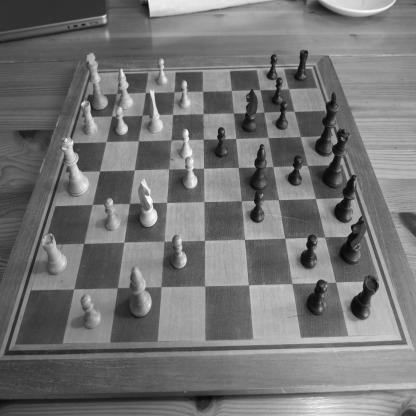black-bishop: (334, 174, 357, 224), (249, 143, 268, 191)
black-king: (314, 91, 340, 157)
black-knight: (340, 216, 368, 266), (242, 87, 258, 133)
black-pawn: (306, 278, 328, 316), (300, 234, 318, 269), (288, 154, 303, 186), (250, 190, 264, 224), (215, 127, 228, 158), (271, 76, 283, 106), (276, 101, 288, 130), (267, 54, 278, 80)
black-queen: (322, 127, 351, 190)
black-rook: (350, 274, 380, 320), (293, 49, 309, 82)
white-bishop: (129, 265, 152, 318), (118, 68, 134, 110)
white-king: (85, 52, 109, 112)
white-knight: (138, 178, 158, 228), (148, 89, 163, 134)
white-pawn: (80, 294, 102, 330), (104, 197, 121, 232), (171, 234, 187, 270), (182, 156, 198, 190), (180, 128, 193, 160), (115, 106, 128, 136), (179, 80, 191, 110), (156, 58, 168, 86)
white-queen: (58, 136, 90, 197)
white-rook: (41, 232, 68, 276), (80, 100, 98, 136)
